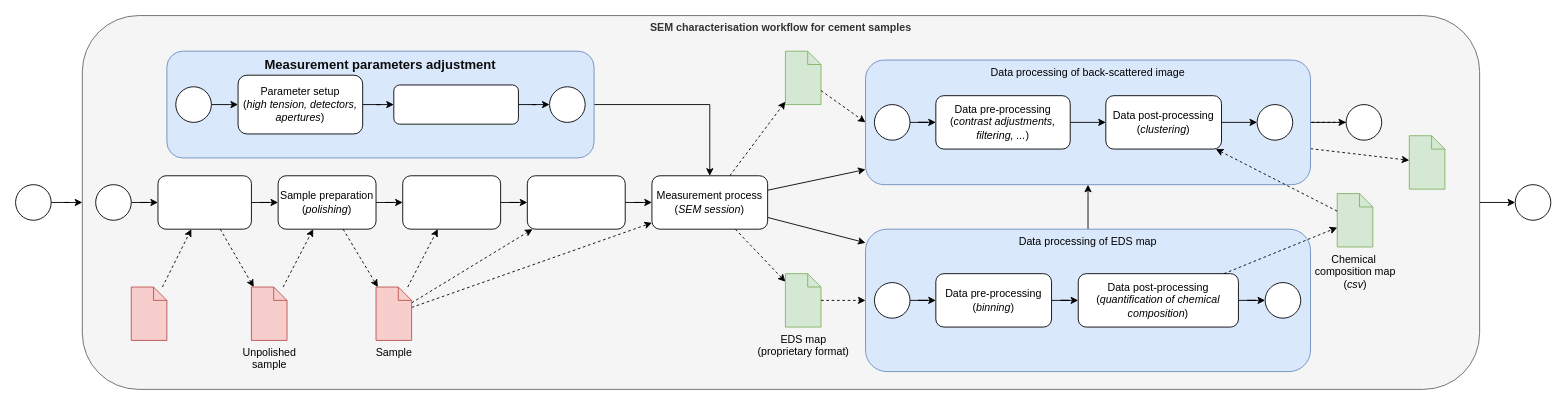
Some shapes in this 1566 by 405 pixel diagram are drawn without their labels. The shapes that lost their labels are listed below. From the top down, each one's centre as x and y in pixels, then its label:
point (803, 77): Back-scattered image (tiff + txt files)
point (455, 104): Microscope alignment ( beam alignment, ... )
point (1426, 162): Characterisation results ( phase fractions )
point (204, 202): Sample extraction ( sawing )
point (451, 202): Sample inspection ( optical microscopy )
point (575, 202): Sample preparation ( coating )
point (148, 313): Material
